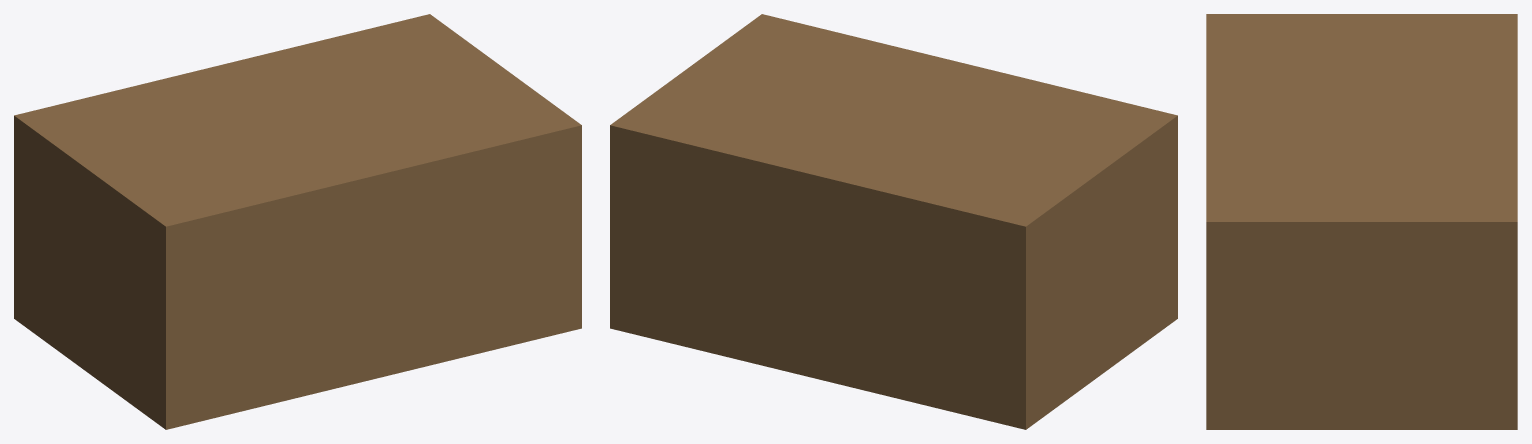
The model's file is oval_thatch_longhouse_collision.glb.
3 views of the same model, side by side, from view 1: azimuth 30°, elevation 25°; view 2: azimuth 150°, elevation 25°; view 3: azimuth 270°, elevation 25° (orthographic). The views are drawn at different scales.
Visible parts, largest first — view 1: oval_thatch_longhouse_collision; view 2: oval_thatch_longhouse_collision; view 3: oval_thatch_longhouse_collision.
Part boxes in pixels (left/top/right/bottom): oval_thatch_longhouse_collision: left=14, top=14, right=581, bottom=429; oval_thatch_longhouse_collision: left=610, top=14, right=1177, bottom=429; oval_thatch_longhouse_collision: left=1206, top=14, right=1517, bottom=429.
Size of the model in its own units: 6.74 by 3.15 by 4.27.
